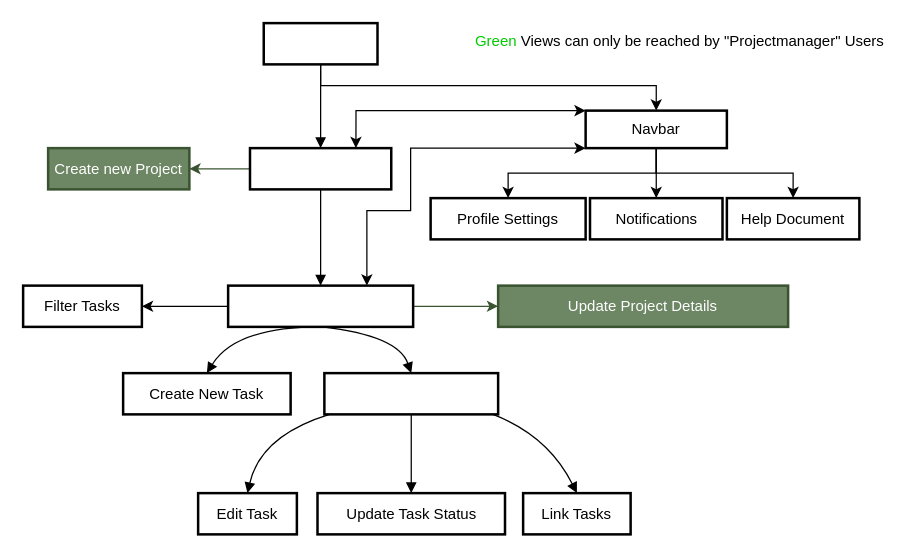
Image size: 919x556. Some labels were removed from this diagram. The shapes that lost their labels are listed below. From the top down, each one's centre as x and y in pixels, then its label:
At [320,43]: "Login Page".
At [320,168]: "All Projects Overview".
At [320,306]: "Project Selected".
At [410,393]: "View Task Details".
